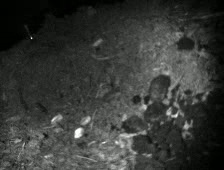corn: (48, 111, 66, 125), (78, 114, 93, 127), (72, 127, 87, 140), (91, 37, 105, 47)
